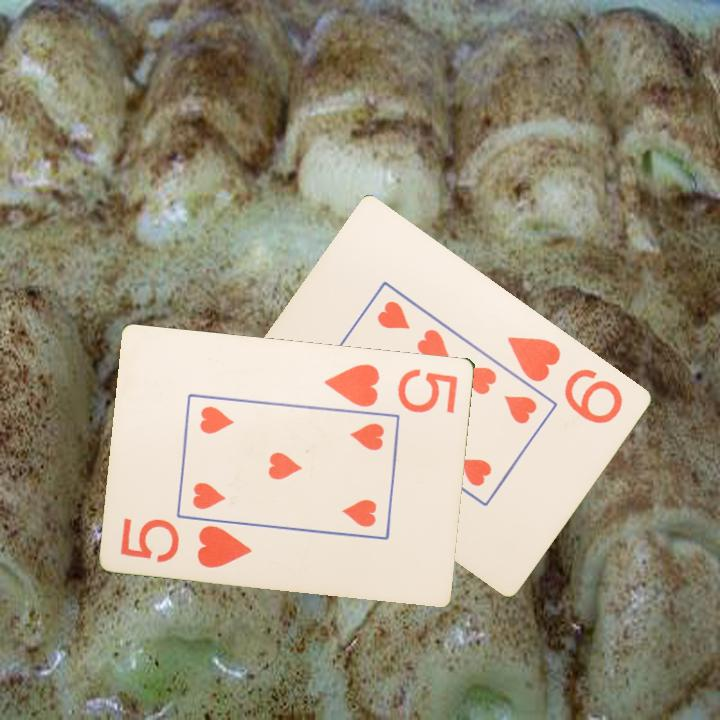5h: (117, 514, 255, 571), (321, 360, 461, 416)
9h: (504, 332, 627, 427)
